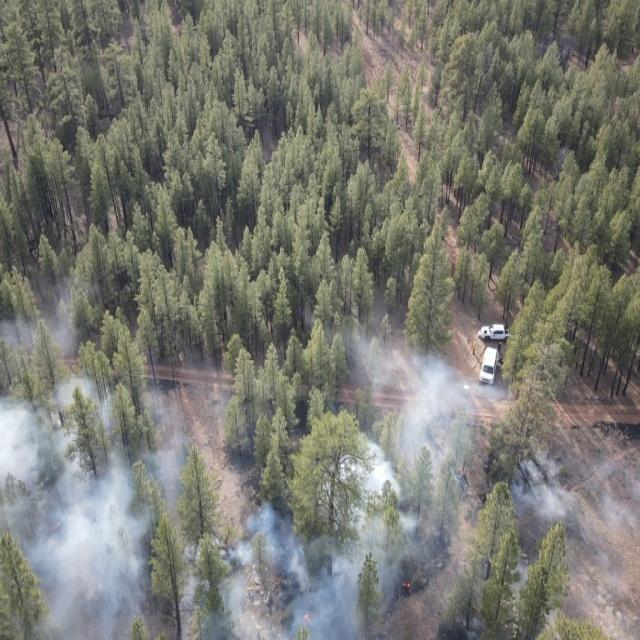fire: (218, 530, 320, 634), (30, 503, 100, 555), (382, 559, 432, 613), (463, 594, 492, 620)
smoke: (0, 368, 198, 640), (209, 431, 433, 640), (309, 322, 533, 434), (430, 432, 640, 542), (0, 270, 110, 358), (491, 548, 627, 588)
